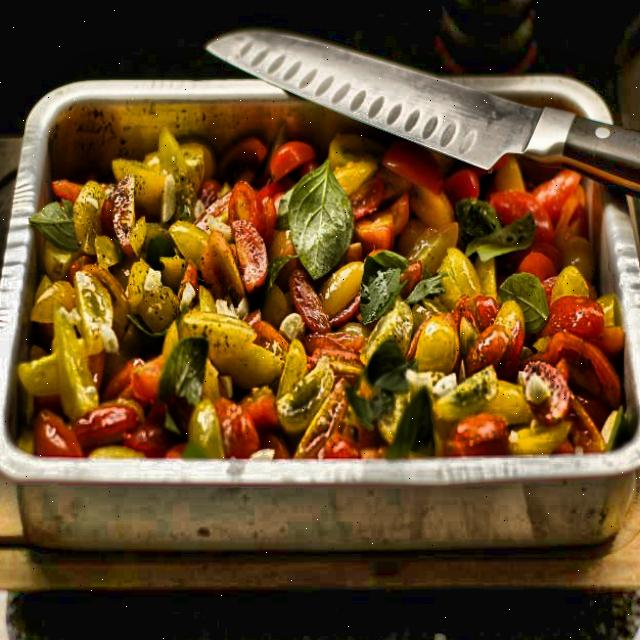knife: (208, 18, 640, 207)
